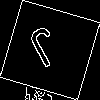J: (24, 24, 69, 77)
